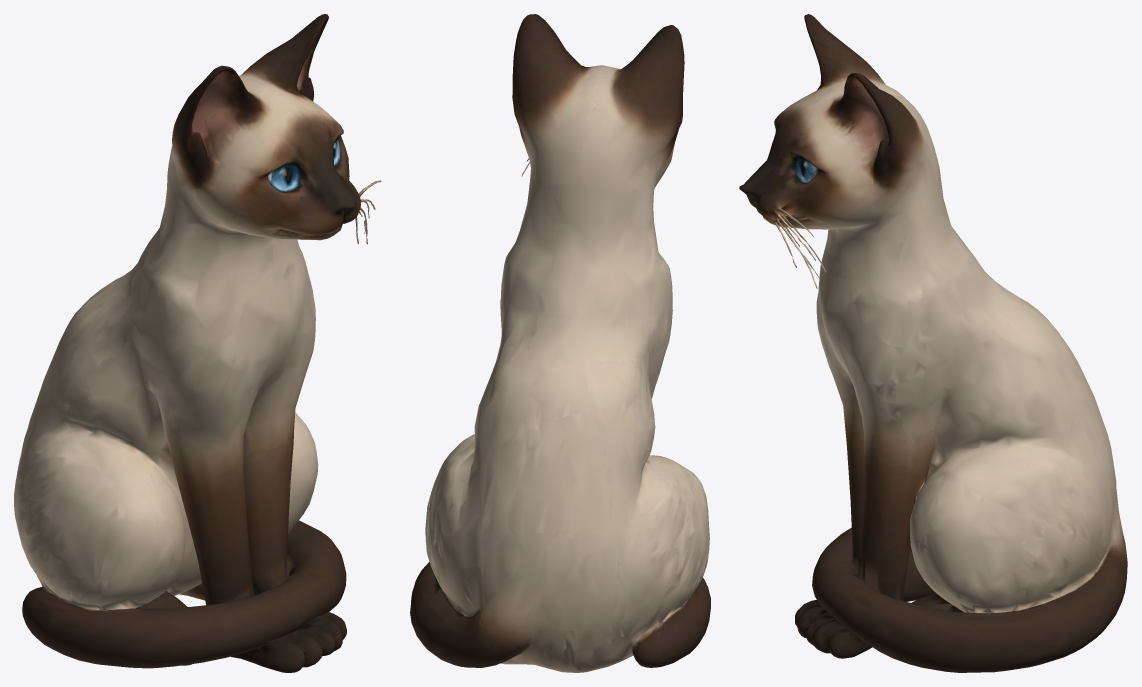
The model's file is cat-sit.glb.
The picture shows the model from 3 angles, left to right: view 1: azimuth 30°, elevation 25°; view 2: azimuth 150°, elevation 25°; view 3: azimuth 270°, elevation 25°; orthographic projection. The views are drawn at different scales.
Visible parts, largest first — view 1: tripo_node_3173497a-f4f2-42d3-852e-0dadf84ae975; view 2: tripo_node_3173497a-f4f2-42d3-852e-0dadf84ae975; view 3: tripo_node_3173497a-f4f2-42d3-852e-0dadf84ae975.
Part boxes in pixels (x1=…): tripo_node_3173497a-f4f2-42d3-852e-0dadf84ae975: x1=14, y1=14, x2=381, y2=672; tripo_node_3173497a-f4f2-42d3-852e-0dadf84ae975: x1=410, y1=14, x2=710, y2=672; tripo_node_3173497a-f4f2-42d3-852e-0dadf84ae975: x1=739, y1=14, x2=1127, y2=672.
Bounding box in the file's own units: 0.4917 × 0.9998 × 0.6026.
Materials: 1 (1 with a texture image).
